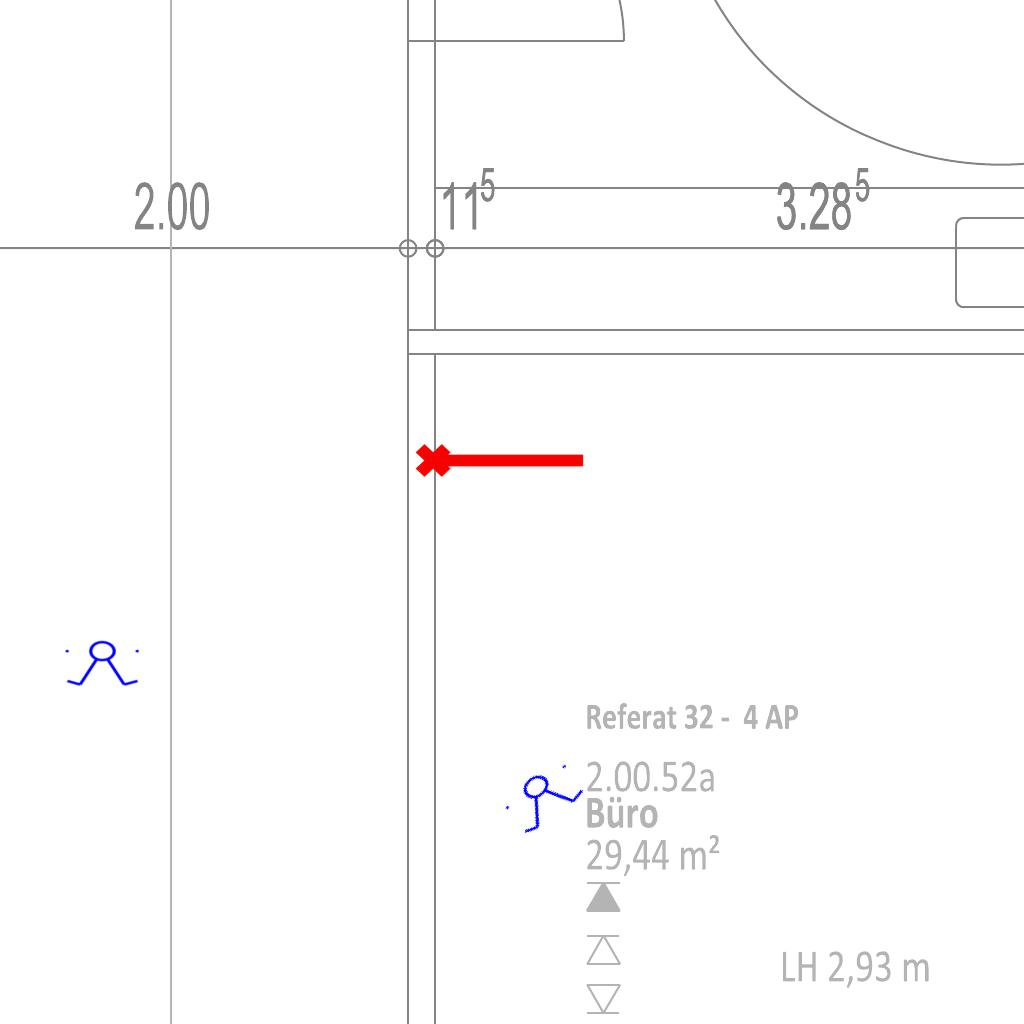ASR_Ansaugoeffnung: (413, 435, 589, 481)
Serienschalter: (495, 752, 593, 842), (61, 640, 145, 688)
